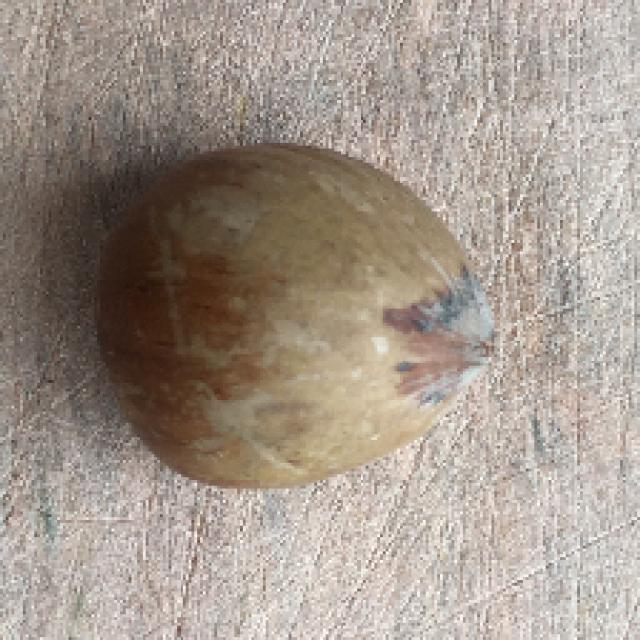DamagedHazelnut: (97, 148, 503, 491)
